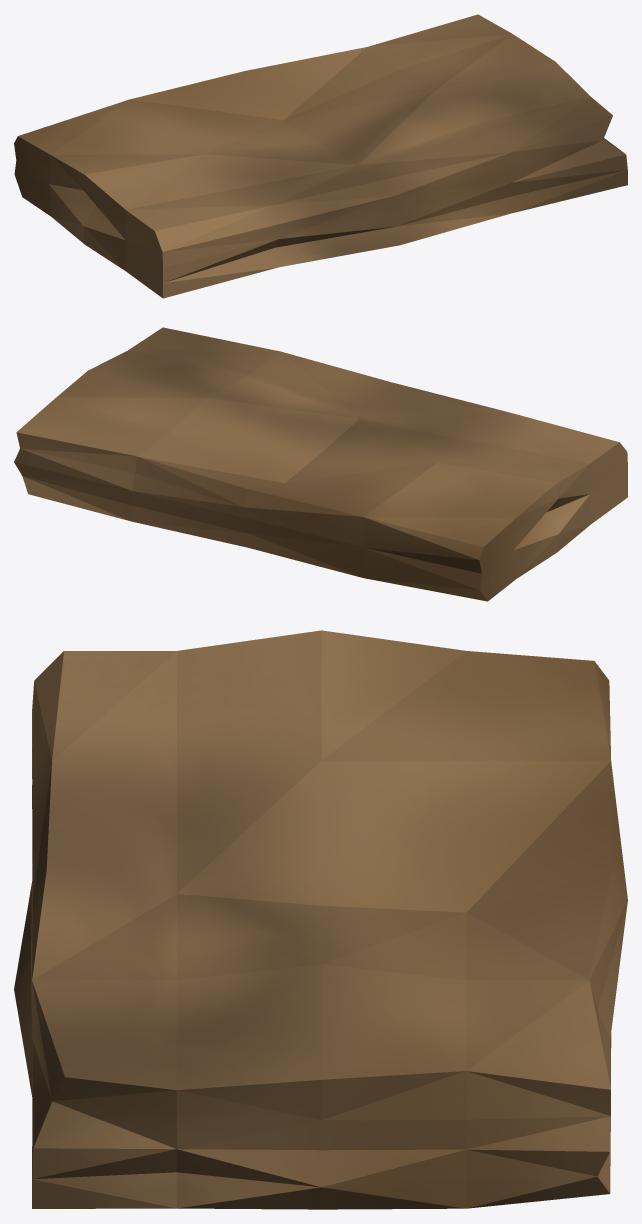
Rendered from box_top.fbx.
The picture shows the model from 3 angles, top to bottom: view 1: azimuth 30°, elevation 25°; view 2: azimuth 150°, elevation 25°; view 3: azimuth 270°, elevation 25°; orthographic projection. The views are drawn at different scales.
Visible parts, largest first — view 1: box_lid; view 2: box_lid; view 3: box_lid.
Boxes of the visible parts, bbox=[...] form: box_lid: bbox=[14, 14, 627, 298]; box_lid: bbox=[14, 327, 627, 601]; box_lid: bbox=[14, 630, 627, 1209].
Size of the model in its own units: 11.41 by 1.64 by 6.55.
Materials: 1 (1 with a texture image).
